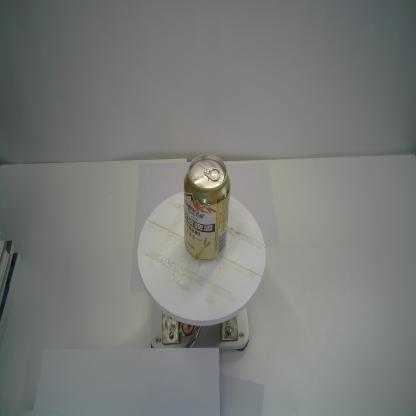Alcohol: (184, 154, 231, 266)
